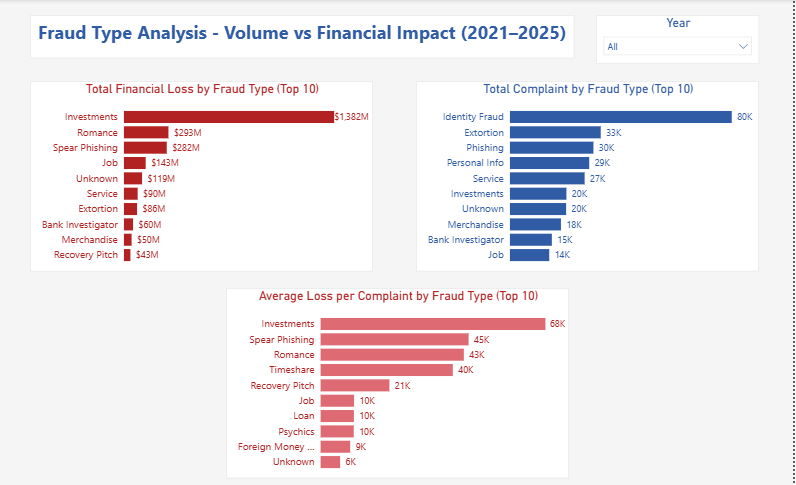

The dashboard page shown, as its layout file describes it:
{"tool":"powerbi","page":{"name":"Fraud Type Analysis","canvas":[1170,720],"ordinal":1},"visuals":[{"type":"textbox","box":[48,24,800,64],"z":0},{"type":"barChart","title":"Total Financial Loss by Fraud Type (Top 10)","fields":{"Category":["Fraud_Complaints.Fraud Type"],"Y":["Fraud_Complaints.Total Financial Loss"]},"box":[48,120,504,280],"z":1000},{"type":"barChart","title":"Total Complaint by Fraud Type (Top 10)","fields":{"Category":["Fraud_Complaints.Fraud Type"],"Y":["Fraud_Complaints.Total Complaints"]},"box":[616,120,504,280],"z":2000},{"type":"barChart","title":"Average Loss per Complaint by Fraud Type (Top 10)","fields":{"Category":["Fraud_Complaints.Fraud Type"],"Y":["Fraud_Complaints.Average Loss per Complaint"]},"box":[336,424,504,280],"z":3000},{"type":"slicer","title":"Year","fields":{"Values":["Fraud_Complaints.Year"]},"box":[880,24,240,72],"z":4000}]}

Visuals, with their boxes in screenshot pixels (x1, y1, x2, y2), scaled from the page's 1170x720 canvas onto the 796x485 screenshot:
textbox: <bbox>33, 16, 577, 59</bbox>
"Total Financial Loss by Fraud Type (Top 10)" barChart: <bbox>33, 81, 376, 269</bbox>
"Total Complaint by Fraud Type (Top 10)" barChart: <bbox>419, 81, 762, 269</bbox>
"Average Loss per Complaint by Fraud Type (Top 10)" barChart: <bbox>229, 286, 571, 474</bbox>
"Year" slicer: <bbox>599, 16, 762, 65</bbox>
